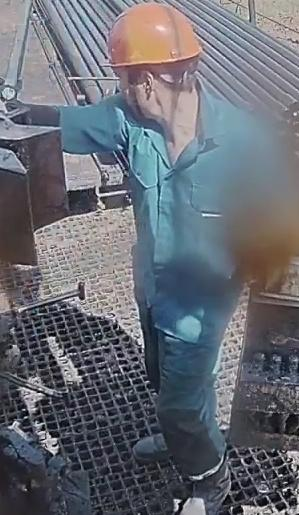helmet: (101, 1, 202, 69)
vest: (112, 89, 248, 342)
